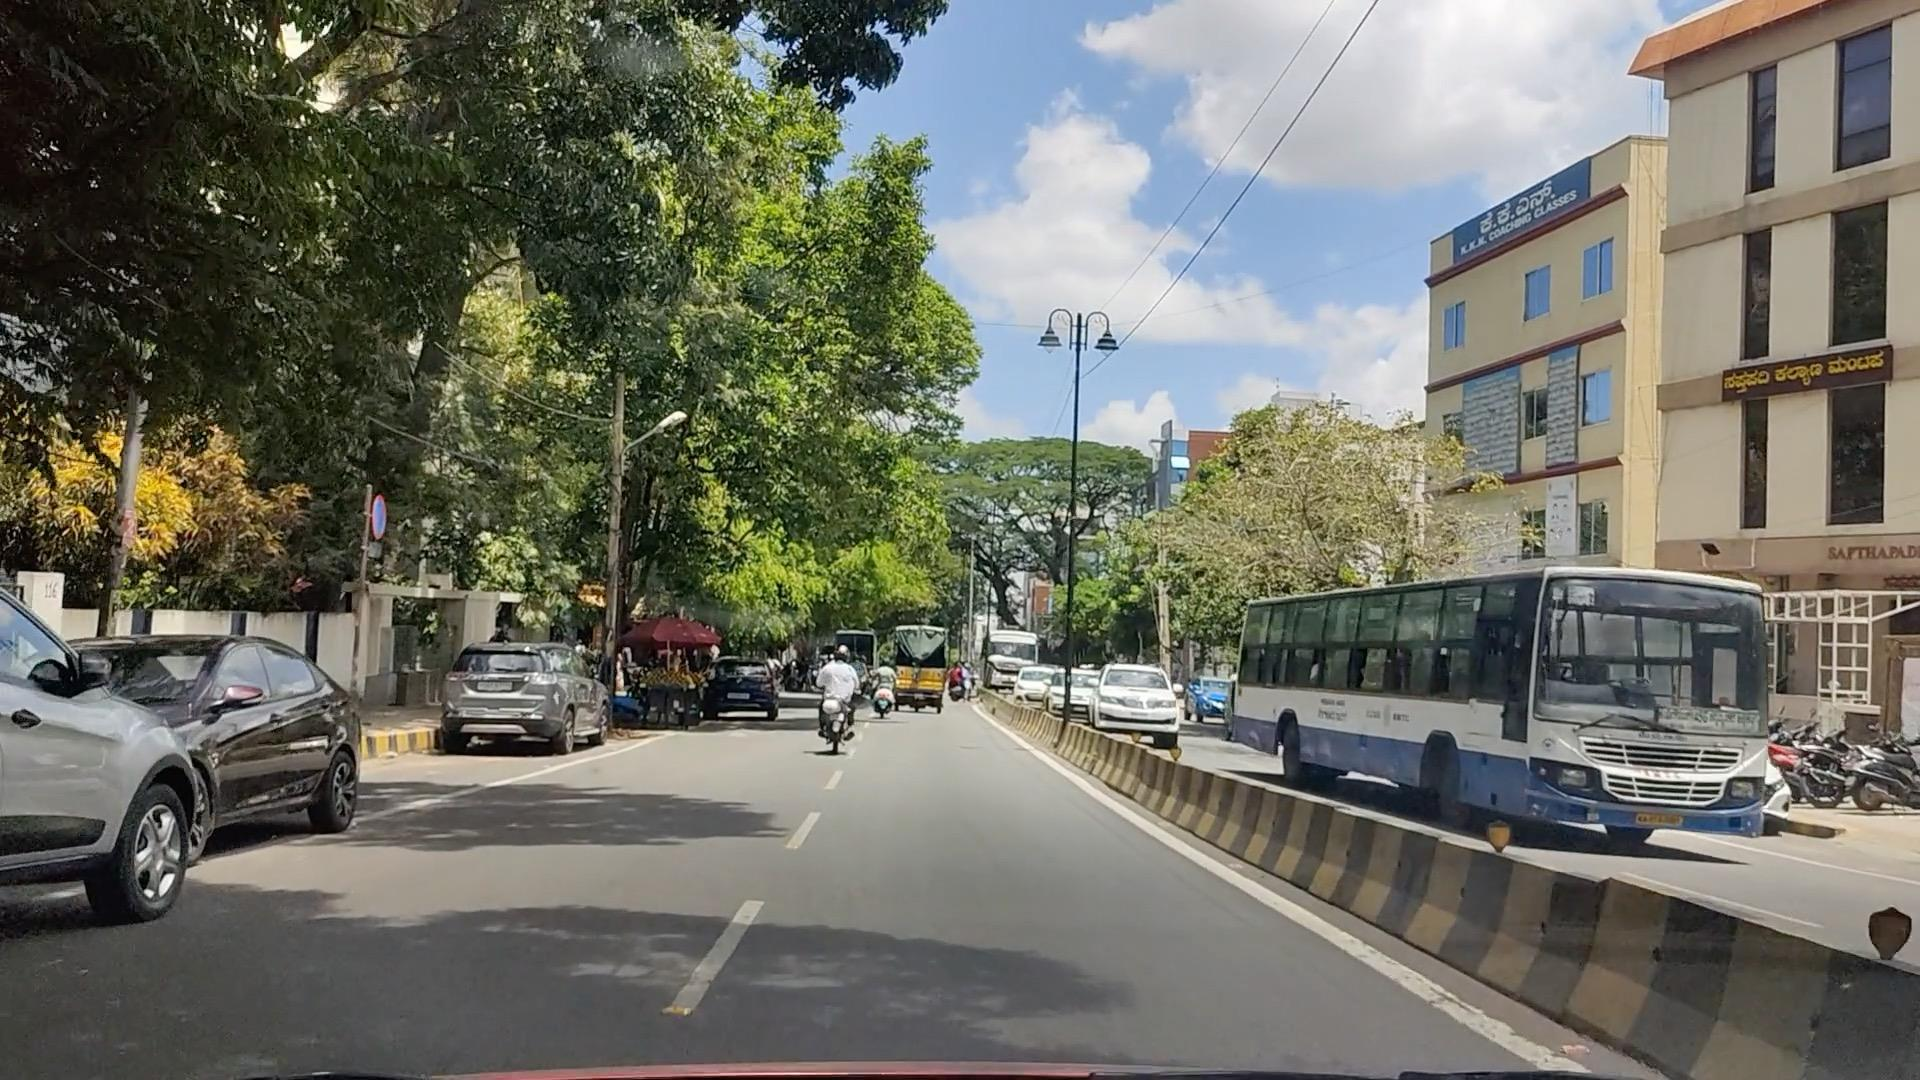LMV: (807, 624, 861, 762)
